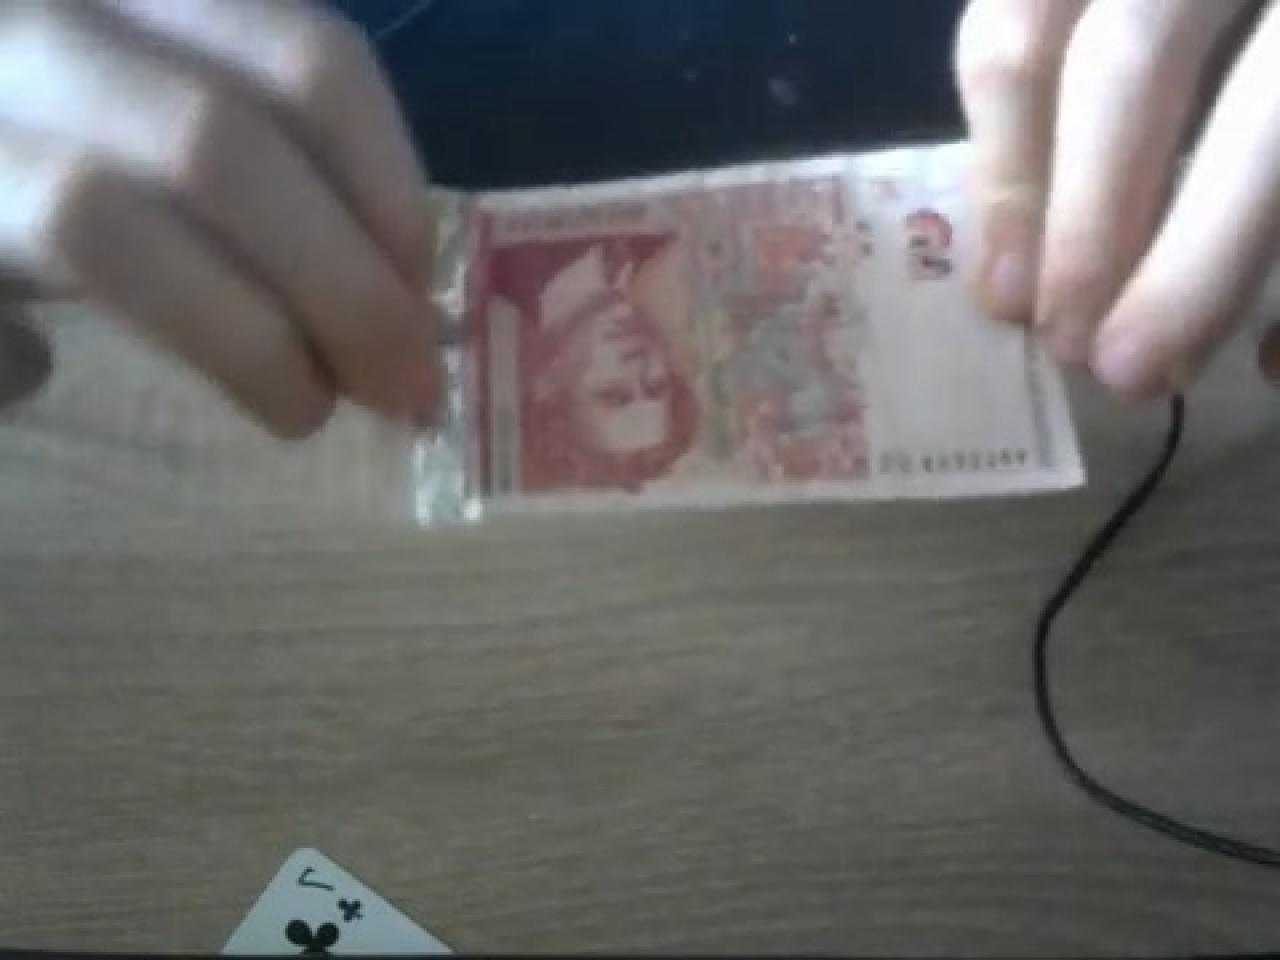5leva: (447, 160, 1082, 520)
